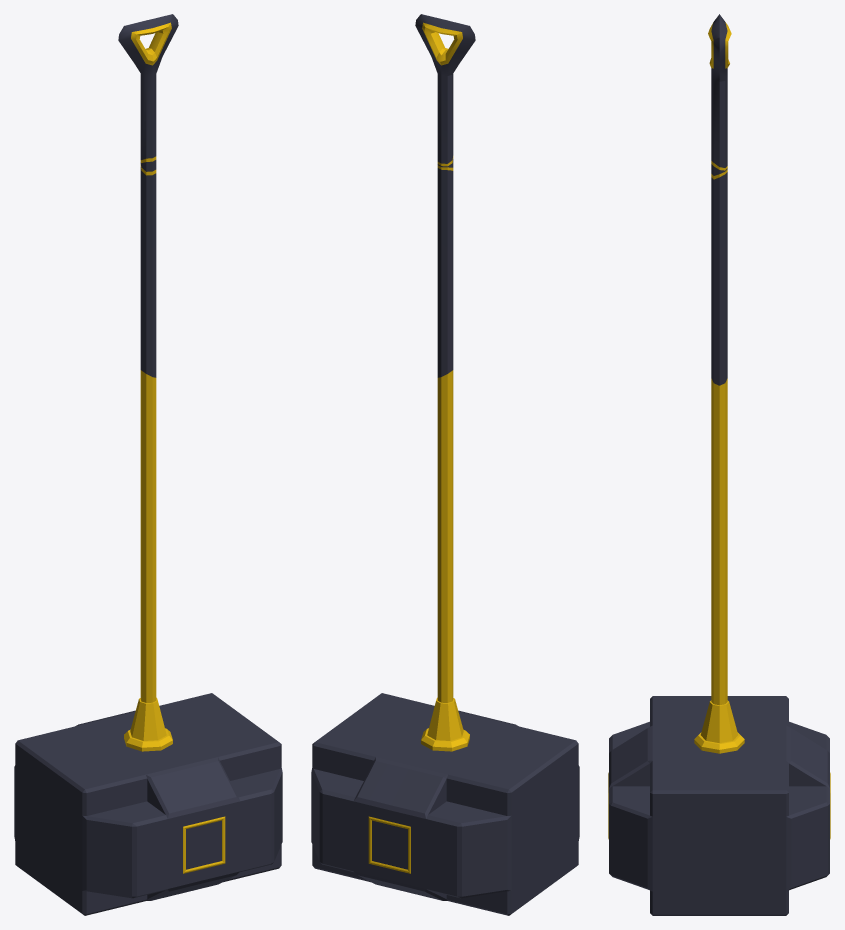
The model's file is Scifi Hammer.fbx.
3 renders of one model, left to right at view 1: azimuth 30°, elevation 25°; view 2: azimuth 150°, elevation 25°; view 3: azimuth 270°, elevation 25°, orthographic.
Visible parts, largest first — view 1: Cylinder.002; view 2: Cylinder.002; view 3: Cylinder.002.
Boxes of the visible parts, x1,y1,x2,y2 form: Cylinder.002: (14,14,282,915); Cylinder.002: (311,14,579,915); Cylinder.002: (608,14,830,915).
Size of the model in its own units: 159 by 646 by 154.
1 material, 1 textured.
